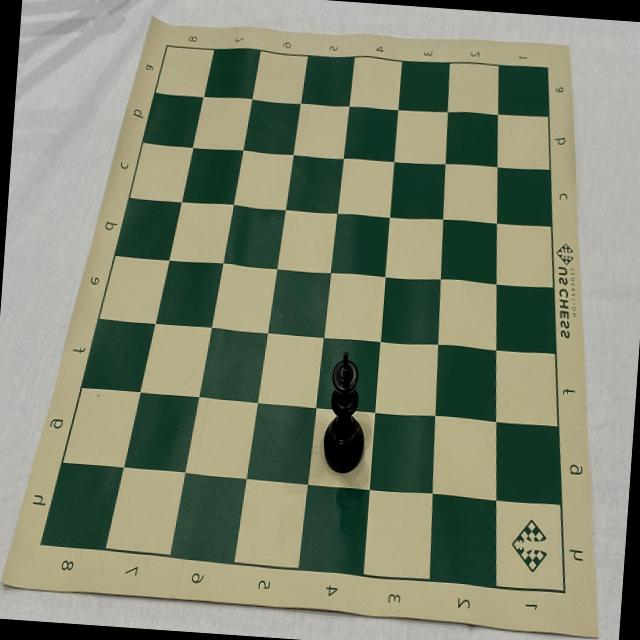black-king: (320, 350, 370, 474)
